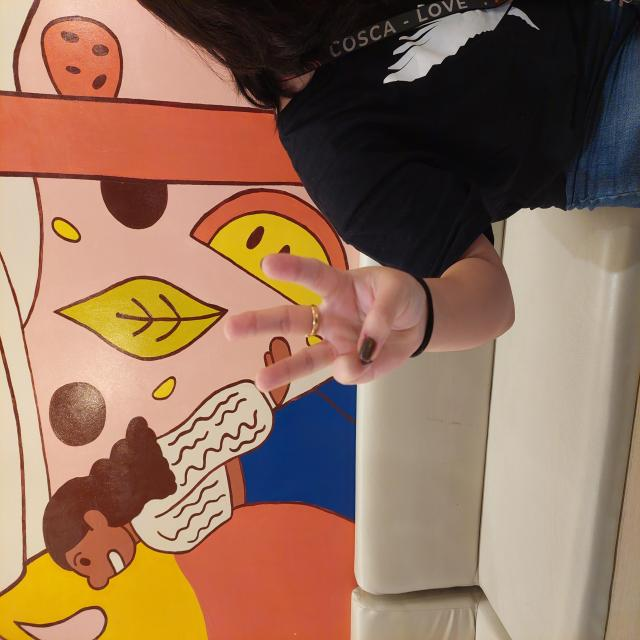W: (244, 222, 388, 428)
